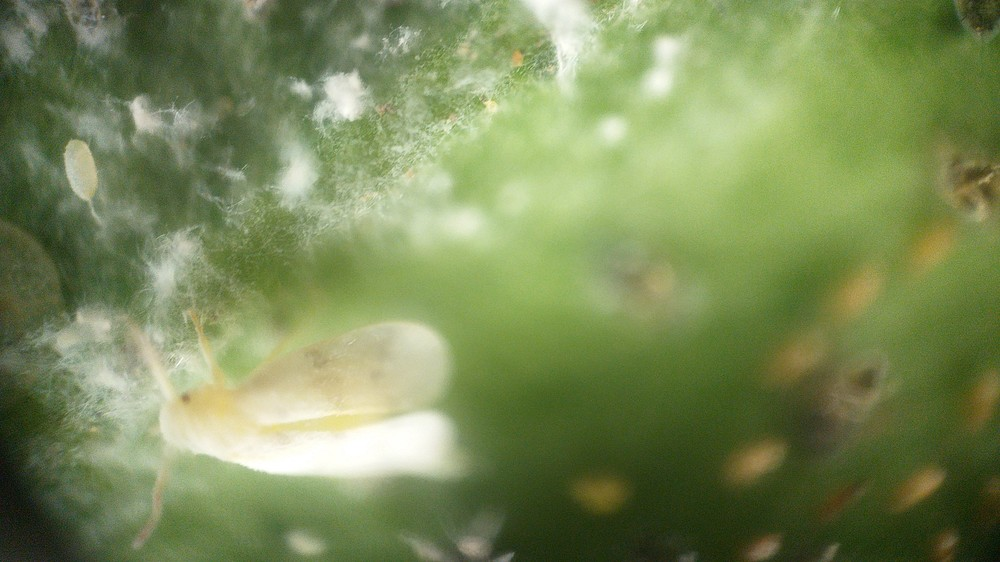Mosca Blanca: (97, 280, 499, 555)
